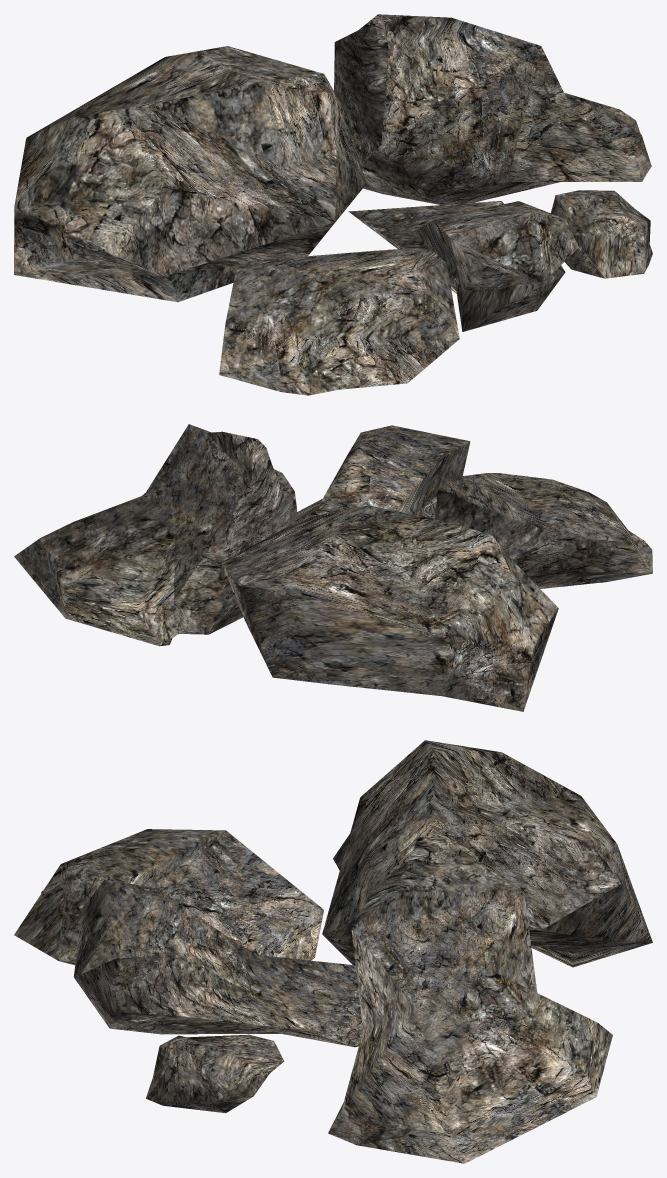
The model's file is pir_m_prp_cav_rockGroup_f.fbx.
The picture shows the model from 3 angles, top to bottom: view 1: azimuth 30°, elevation 25°; view 2: azimuth 150°, elevation 25°; view 3: azimuth 270°, elevation 25°; orthographic projection. The views are drawn at different scales.
Parts seen in each view (by area): view 1: rock_03, rock_05, rock_02, rock_01, rock_04; view 2: rock_03, rock_05, rock_02, rock_01, rock_04; view 3: rock_05, rock_03, rock_01, rock_02, rock_04.
Part boxes in pixels (x1,y1,x2,y2): rock_03: (14,46,365,302); rock_05: (334,14,651,204); rock_02: (219,248,459,395); rock_01: (348,201,578,331); rock_04: (551,190,652,278); rock_03: (221,505,558,711); rock_05: (14,424,294,646); rock_02: (434,473,652,588); rock_01: (292,425,470,522); rock_04: (274,469,296,514); rock_05: (328,837,612,1163); rock_03: (322,740,652,967); rock_01: (74,879,362,1047); rock_02: (14,829,323,965); rock_04: (146,1034,284,1113).
Bounding box in the file's own units: 1319 × 434 × 1131.
Materials: 1 (1 with a texture image).
